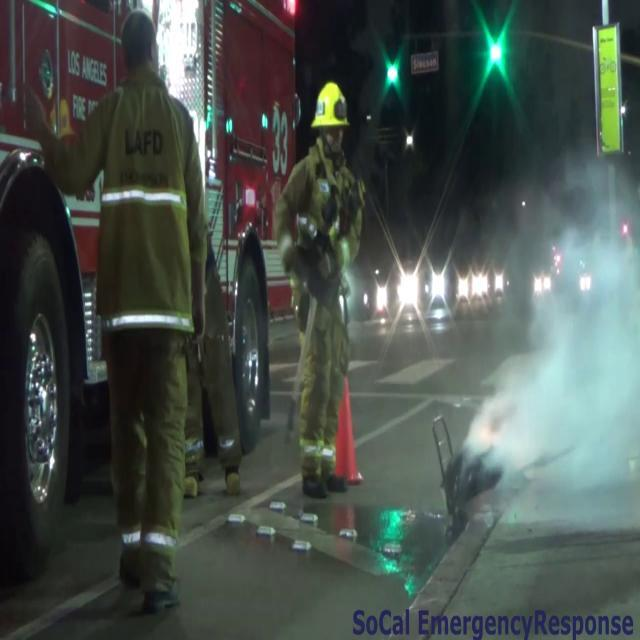Smoke: (475, 123, 640, 510)
